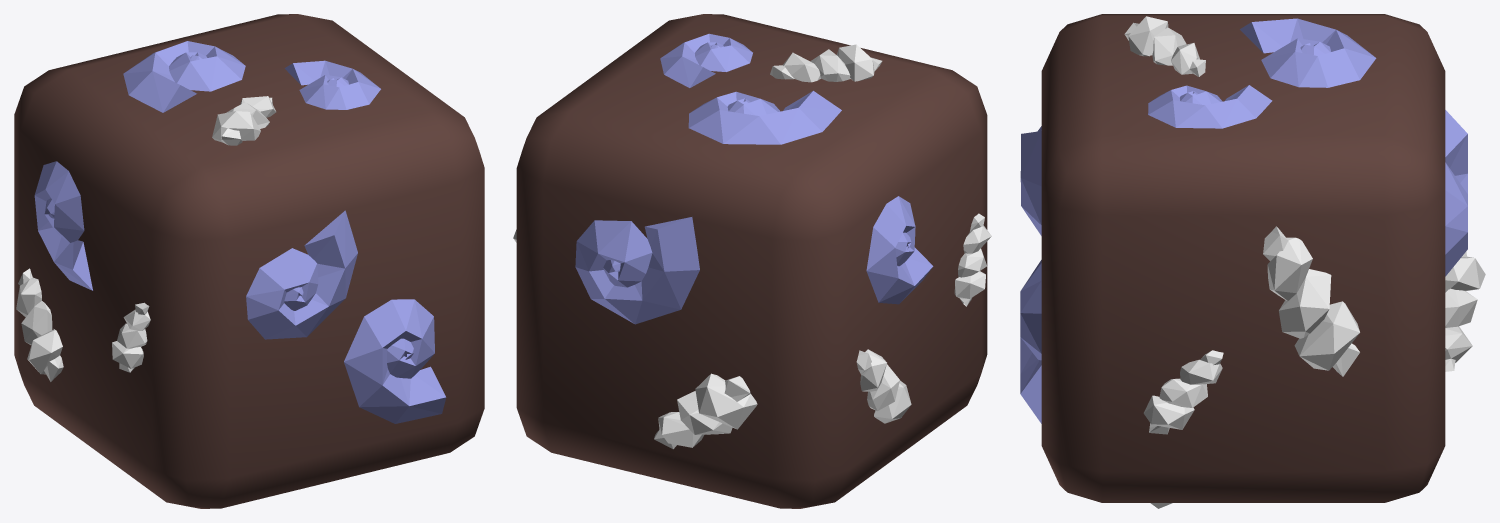
Rendered from SM_Fossils.fbx.
The picture shows the model from 3 angles, left to right: view 1: azimuth 30°, elevation 25°; view 2: azimuth 150°, elevation 25°; view 3: azimuth 270°, elevation 25°; orthographic projection. The views are drawn at different scales.
Parts seen in each view (by area): view 1: Cube.026; view 2: Cube.026; view 3: Cube.026.
Boxes of the visible parts, box(x1,y1,x2,y2) form: Cube.026: box(14, 14, 484, 508); Cube.026: box(513, 14, 991, 508); Cube.026: box(1020, 14, 1485, 508).
Size of the model in its own units: 236 by 232 by 231.
